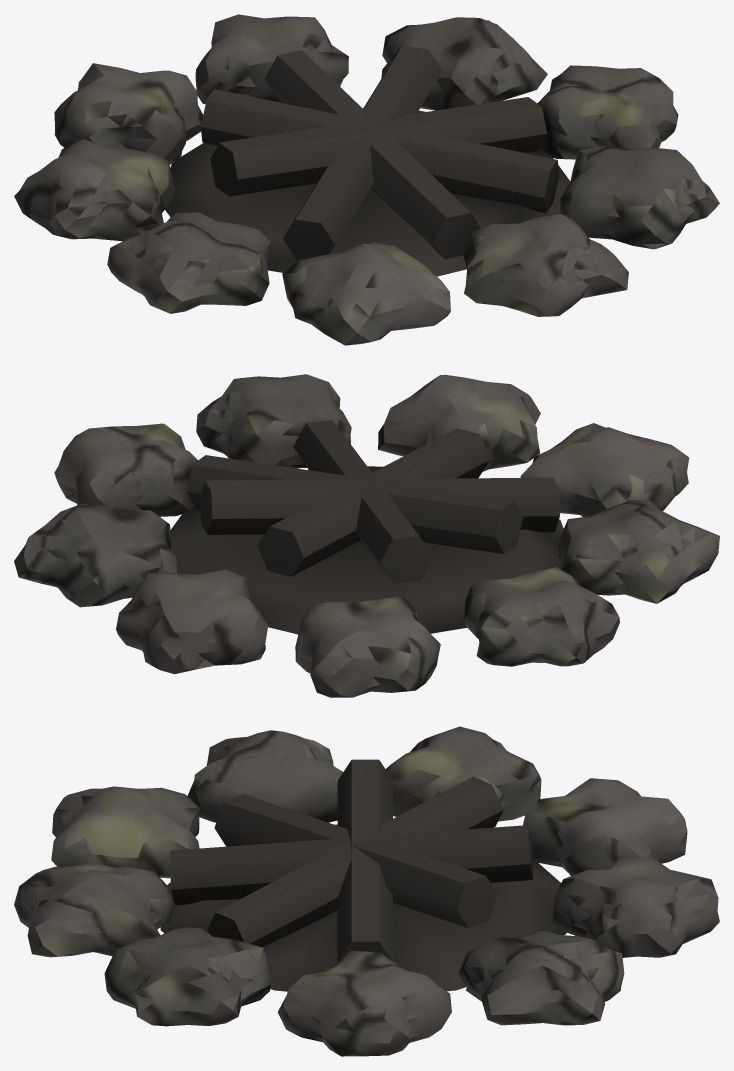
The model's file is firering.glb.
3 renders of one model, top to bottom at view 1: azimuth 30°, elevation 25°; view 2: azimuth 150°, elevation 25°; view 3: azimuth 270°, elevation 25°, orthographic.
Visible parts, largest first — view 1: boat_rock, boat_char; view 2: boat_rock, boat_char; view 3: boat_rock, boat_char.
Part boxes in pixels (box(x1,y1,x2,y2)): boat_rock: box(14, 14, 719, 345); boat_char: box(165, 46, 570, 276); boat_rock: box(14, 374, 719, 697); boat_char: box(170, 420, 563, 634); boat_rock: box(14, 726, 719, 1056); boat_char: box(160, 759, 566, 991).
Size of the model in its own units: 1.23 by 0.1656 by 1.28.
Materials: 2 (1 with a texture image).
